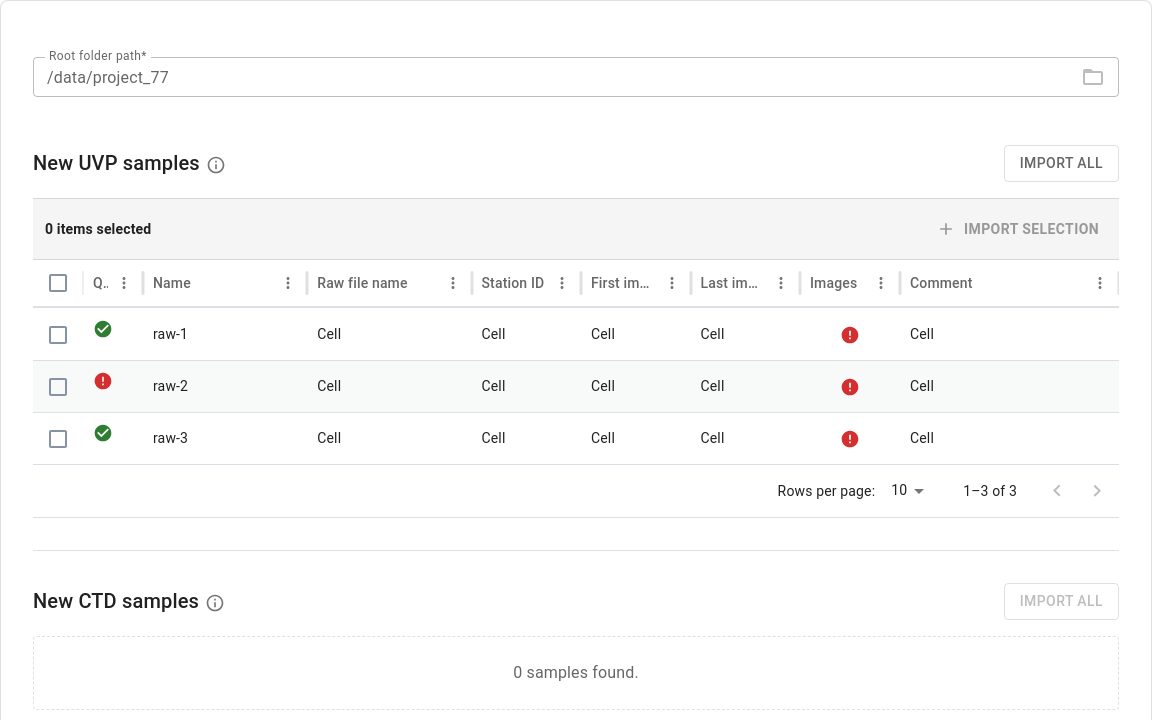
Test: I. IMPORT TAB (ProjectImportTab) › Functional Tests › TC-N2 - Select All UVP Samples (UI level)
Check: the table is shown, box [33,260,1119,464]
// Find and click select all checkbox (use accessible name to avoid brittle index-based selection)
Click the checkbox named "select all": point(58, 283) [46,271,70,295]
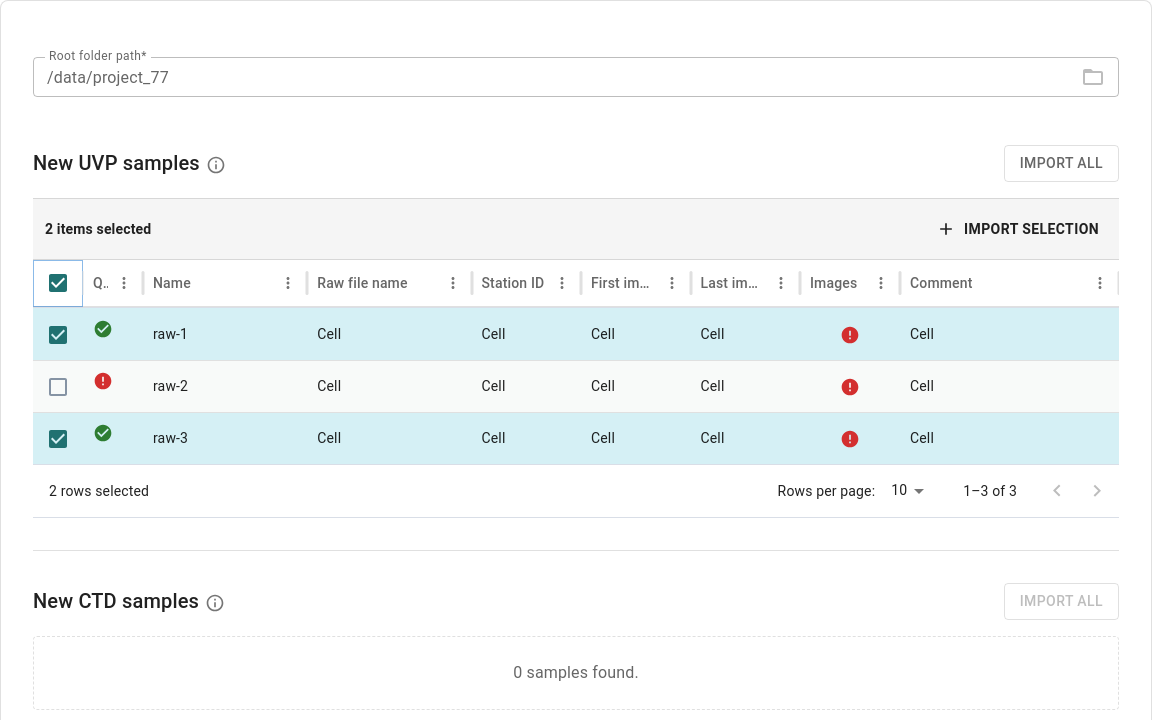
Check: the text "2 items selected" is shown, box [45,219,151,239]
Check: the button "IMPORT SELECTION" is enabled, box [932,210,1107,247]
